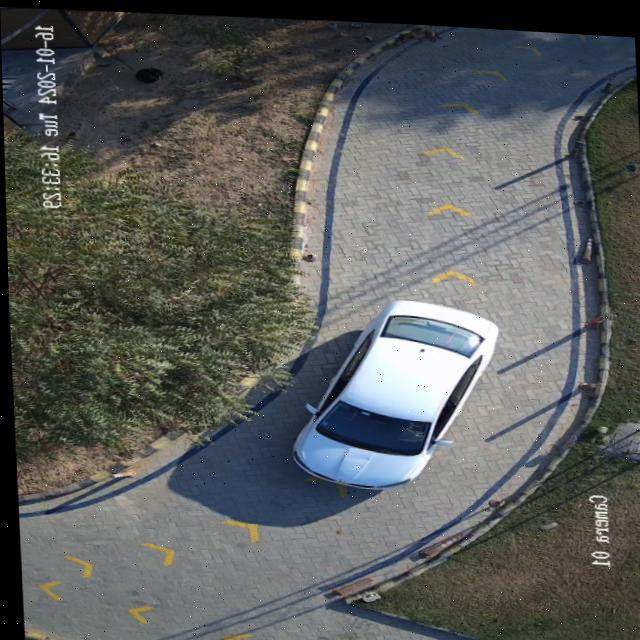car: (290, 294, 495, 483)
